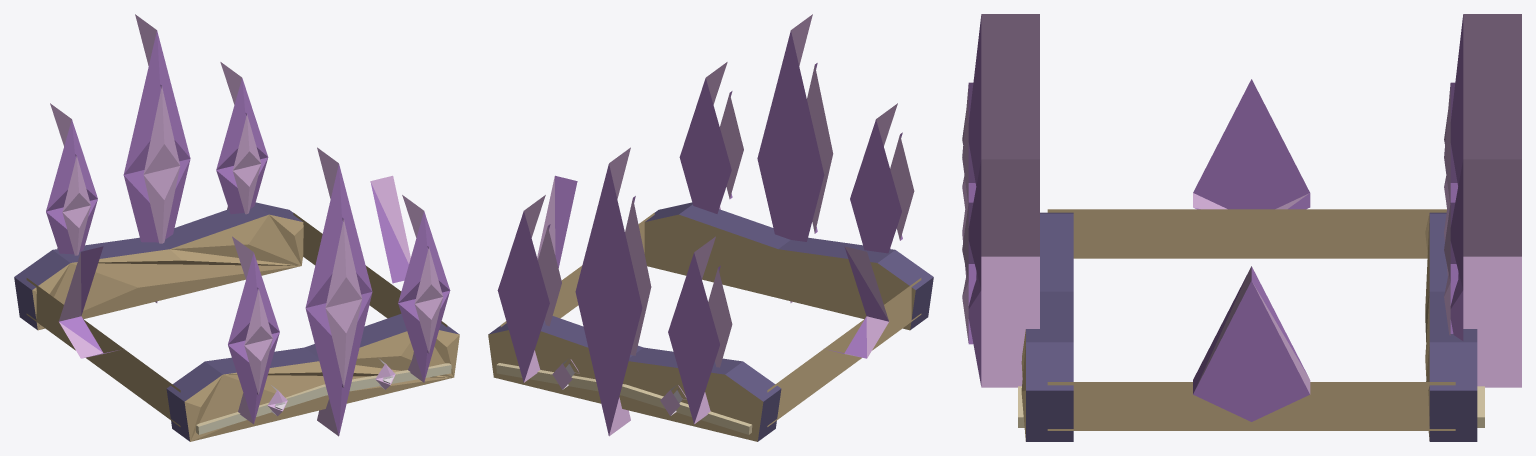
Rendered from amethyst_spire_crown.glb.
3 renders of one model, left to right at view 1: azimuth 30°, elevation 25°; view 2: azimuth 150°, elevation 25°; view 3: azimuth 270°, elevation 25°, orthographic. The views are drawn at different scales.
Parts seen in each view (by area): view 1: head; view 2: head; view 3: head.
Part boxes in pixels (left/top/right/bottom): head: left=14, top=14, right=459, bottom=441; head: left=488, top=14, right=933, bottom=441; head: left=962, top=14, right=1521, bottom=441.
Bounding box in the file's own units: 11 × 9.2 × 12.89.
